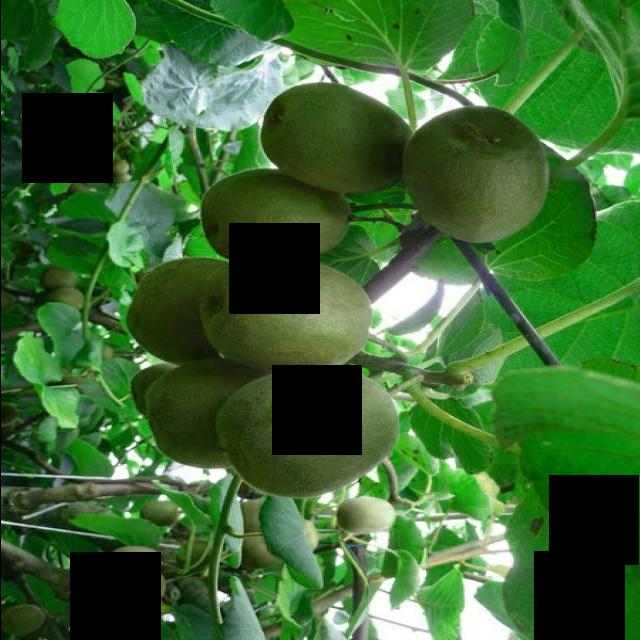kiwi: (213, 368, 402, 502), (203, 255, 380, 376), (401, 108, 553, 246), (122, 258, 288, 382), (258, 84, 422, 201), (144, 362, 289, 473), (199, 169, 359, 267), (111, 572, 171, 614), (337, 499, 398, 537), (108, 547, 164, 582), (141, 502, 185, 528)
